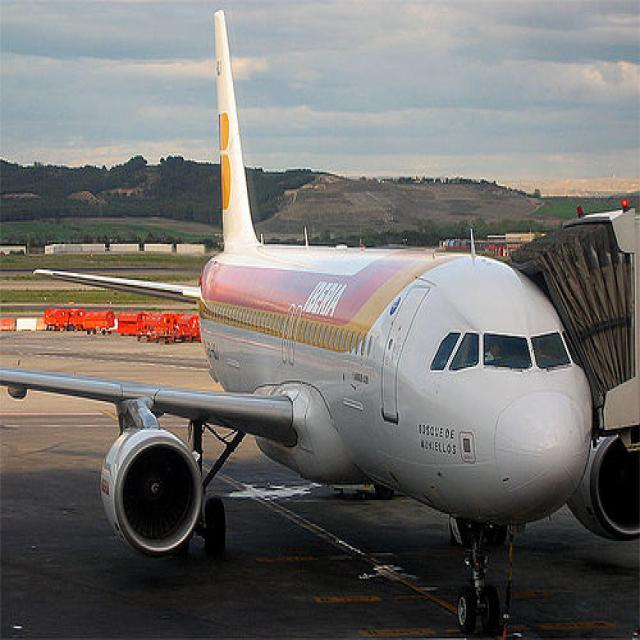aeroplane: (1, 7, 638, 639)
